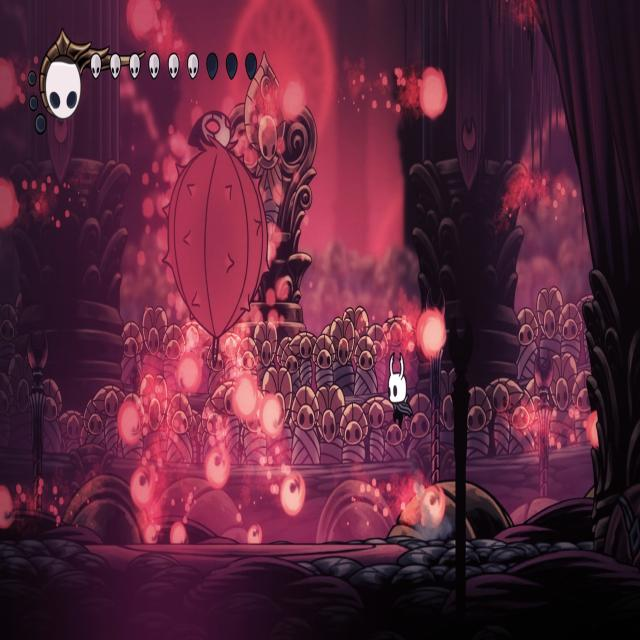Player: (384, 348, 413, 432)
Pufferfish: (156, 103, 270, 366)
Tiny Fireballs: (419, 68, 448, 121), (417, 310, 446, 361), (233, 374, 259, 422), (128, 0, 158, 39), (117, 401, 142, 447), (131, 464, 154, 510), (281, 472, 305, 516), (262, 394, 285, 438), (206, 446, 230, 487), (178, 354, 202, 394), (0, 180, 19, 230), (282, 80, 304, 122), (422, 484, 444, 526), (0, 486, 14, 529), (246, 523, 262, 544), (170, 523, 186, 544)
